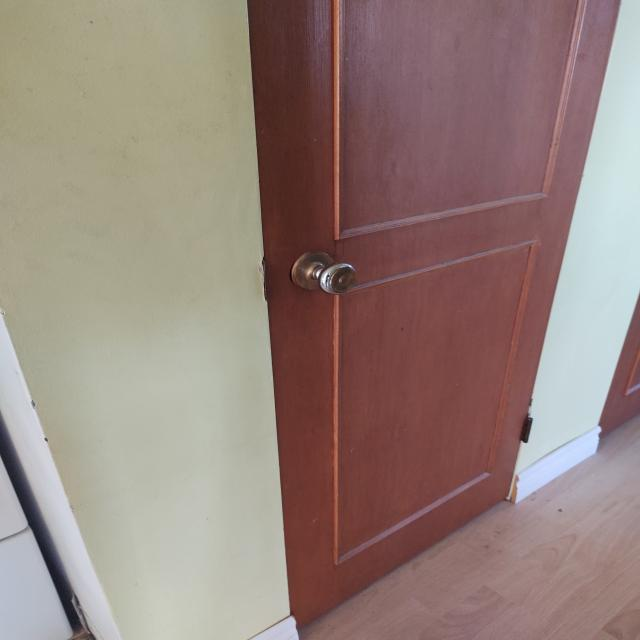door-knob: (291, 251, 356, 295)
